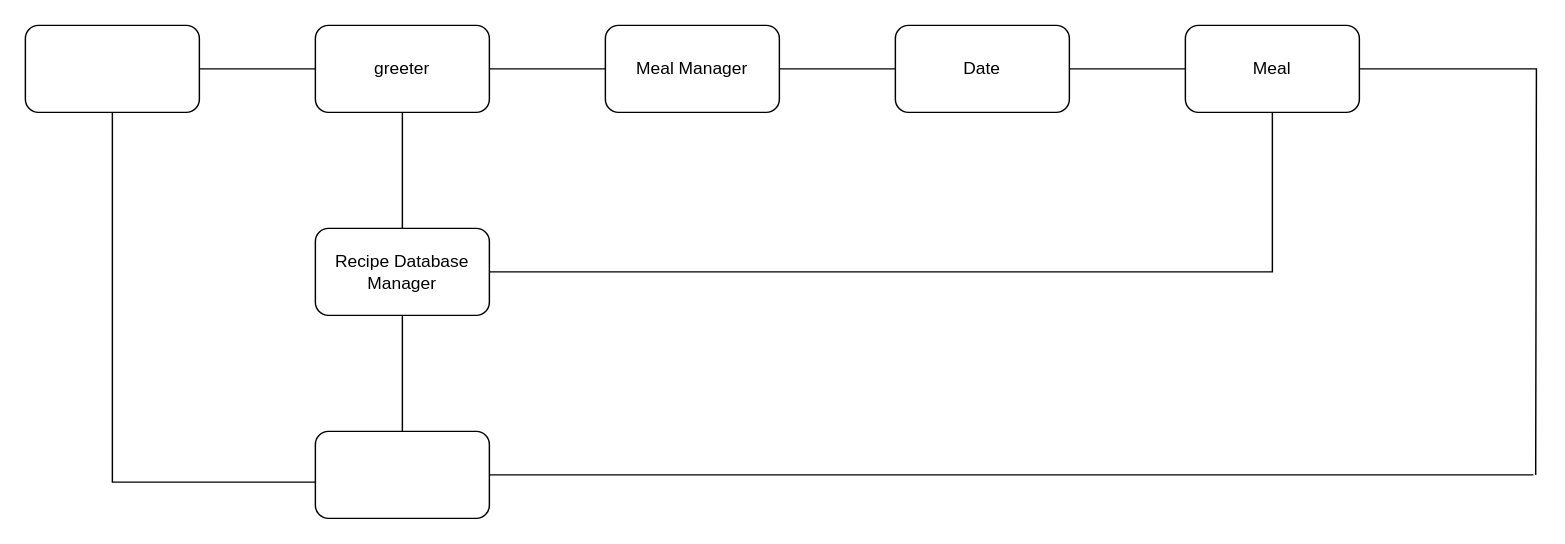
Some shapes in this 1565 by 544 pixel diagram are drawn without their labels. The shapes that lost their labels are listed below. From the top down, each one's centre as x and y in pixels, then its label:
(111,68): Grocery List
(401,474): Recipe
